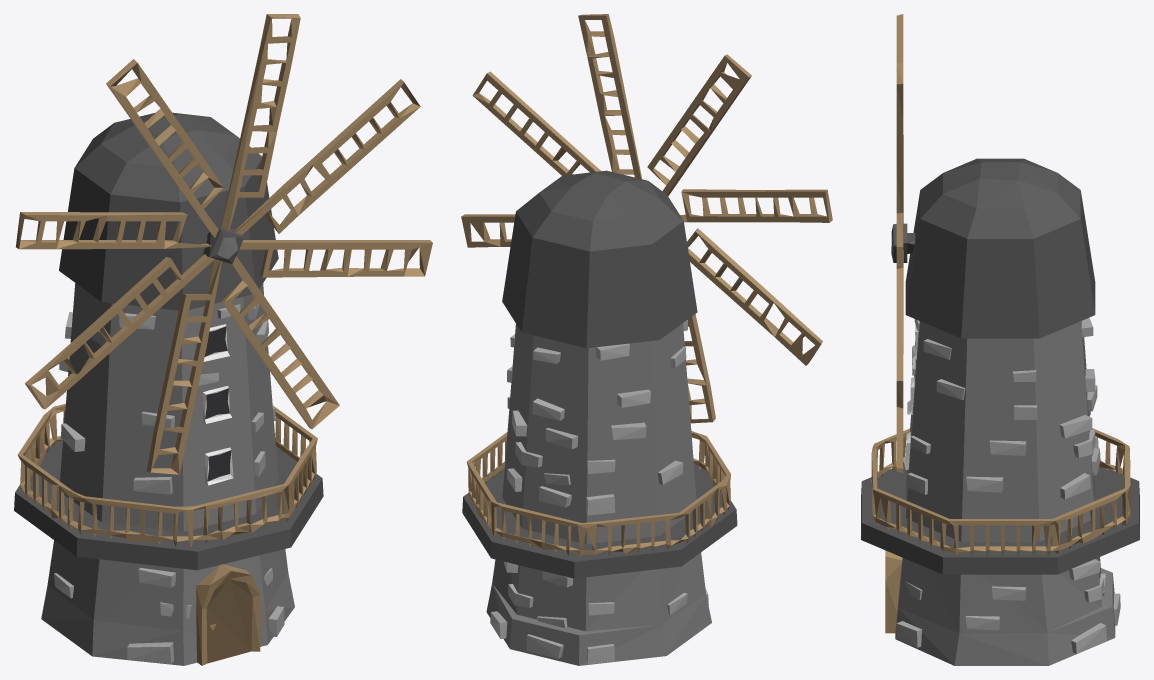
File: TowerWindmill.lod1.glb
The picture shows the model from 3 angles, left to right: view 1: azimuth 30°, elevation 25°; view 2: azimuth 150°, elevation 25°; view 3: azimuth 270°, elevation 25°; orthographic projection. The views are drawn at different scales.
Visible parts, largest first — view 1: TowerWindmill, TowerWindmill_Blades; view 2: TowerWindmill, TowerWindmill_Blades; view 3: TowerWindmill, TowerWindmill_Blades.
Part boxes in pixels (bbox=[...]): TowerWindmill: bbox=[14, 112, 323, 665]; TowerWindmill_Blades: bbox=[16, 14, 432, 474]; TowerWindmill: bbox=[462, 170, 737, 665]; TowerWindmill_Blades: bbox=[461, 14, 832, 423]; TowerWindmill: bbox=[861, 158, 1139, 665]; TowerWindmill_Blades: bbox=[896, 14, 903, 472].
Bounding box in the file's own units: 7.9 × 11.41 × 4.99.
